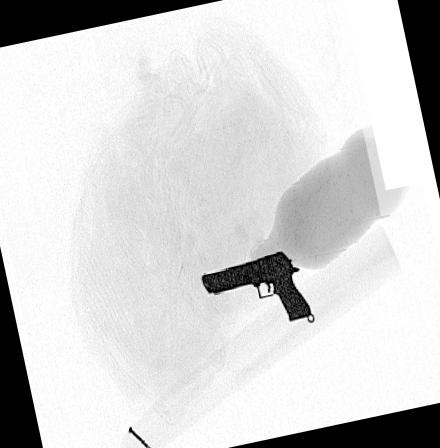Gun: (202, 248, 312, 320)
